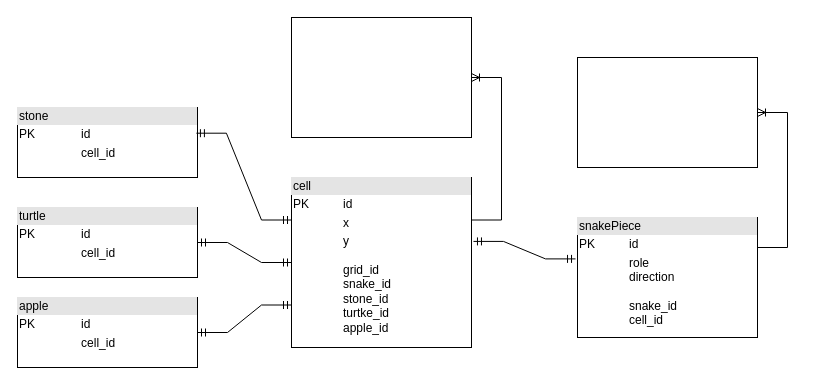
Some shapes in this 813 by 385 pixel diagram are drawn without their labels. Each missing label, with the centre of its shape:
grid PK id dimension_x dimension_y cell_id: point 381,77
snake PK id grid_id cell_id: point 667,112
